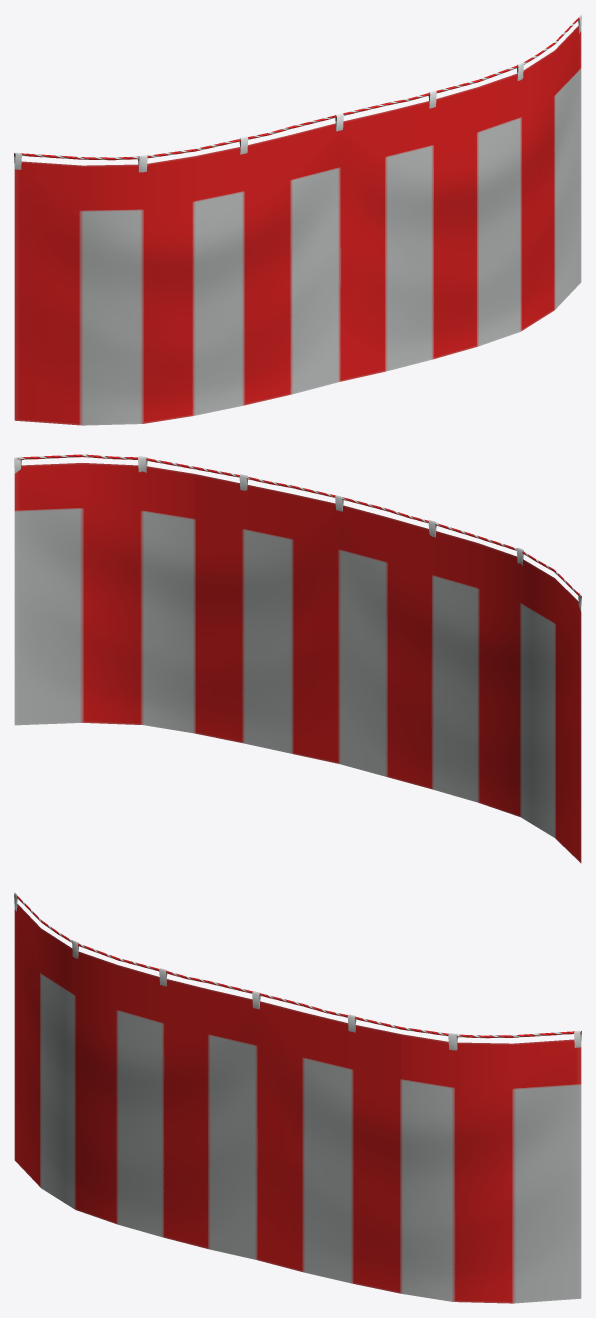
File: set_redandwhite_curtain_curve_01.fbx
3 renders of one model, top to bottom at view 1: azimuth 30°, elevation 25°; view 2: azimuth 150°, elevation 25°; view 3: azimuth 330°, elevation 25°, orthographic.
Parts seen in each view (by area): view 1: set_redandwhite_curtain_curve_01; view 2: set_redandwhite_curtain_curve_01; view 3: set_redandwhite_curtain_curve_01.
Part boxes in pixels (box(x1,y1,x2,y2)): set_redandwhite_curtain_curve_01: box(14, 14, 581, 425); set_redandwhite_curtain_curve_01: box(14, 454, 581, 863); set_redandwhite_curtain_curve_01: box(14, 892, 581, 1303).
Bounding box in the file's own units: 400 × 182 × 52.94.
